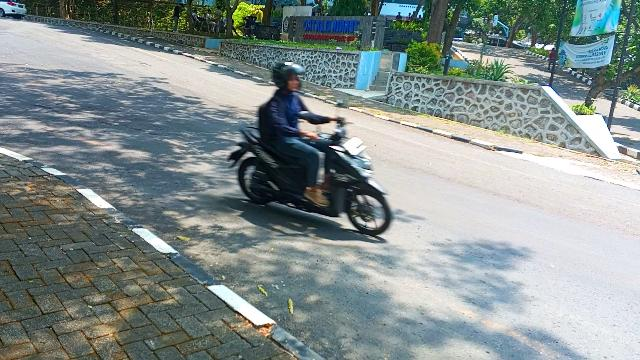helm: (274, 63, 304, 93)
motor: (230, 122, 393, 236)
